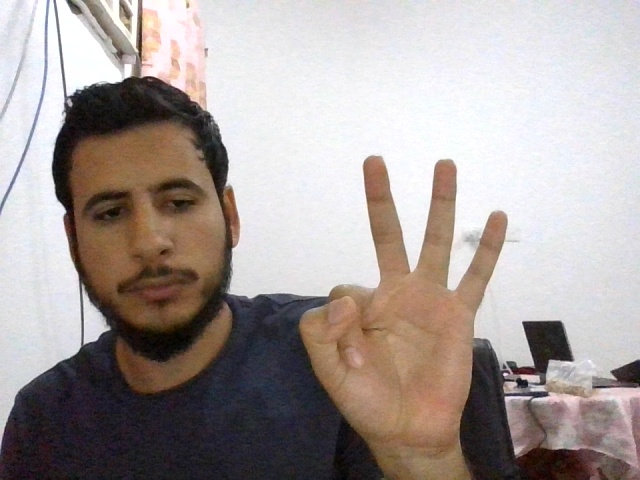Three: (299, 156, 508, 446)
